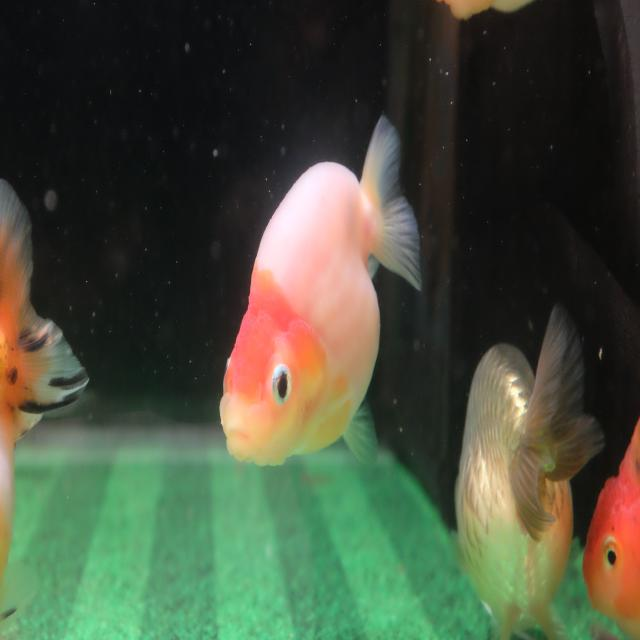Goldfish: (218, 113, 424, 470), (454, 303, 607, 640), (582, 415, 639, 640)
